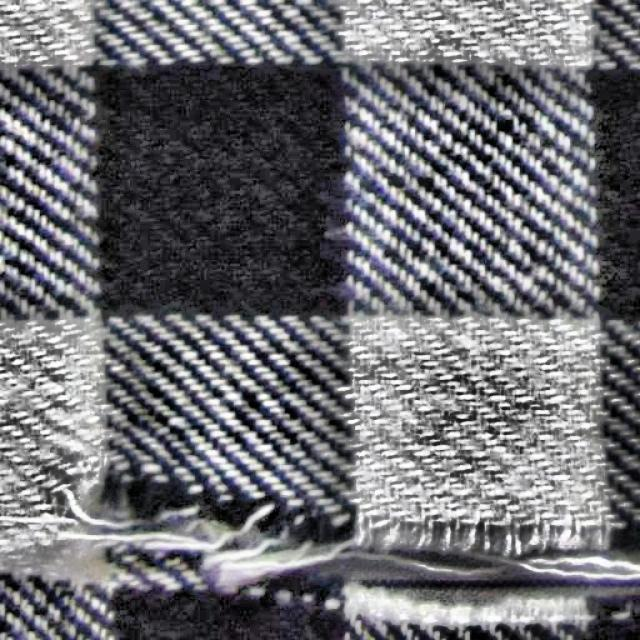cut: (403, 483, 624, 620), (224, 480, 376, 600), (42, 465, 197, 577)
